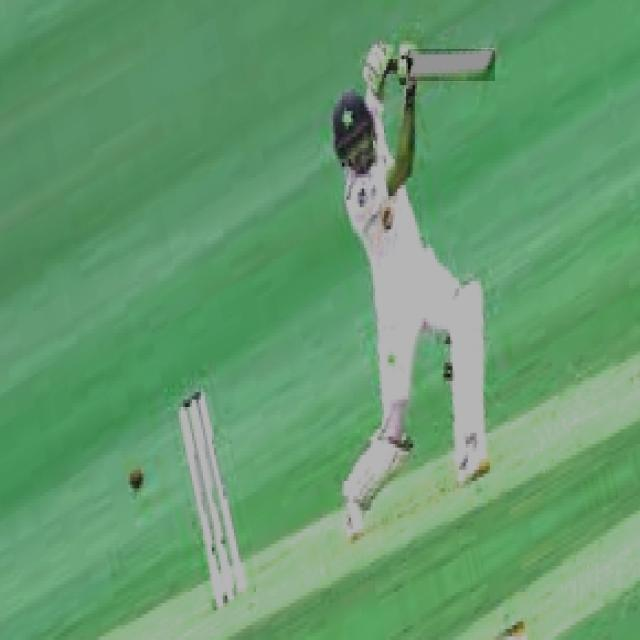bat: (406, 48, 496, 82)
toe: (481, 46, 497, 84)
